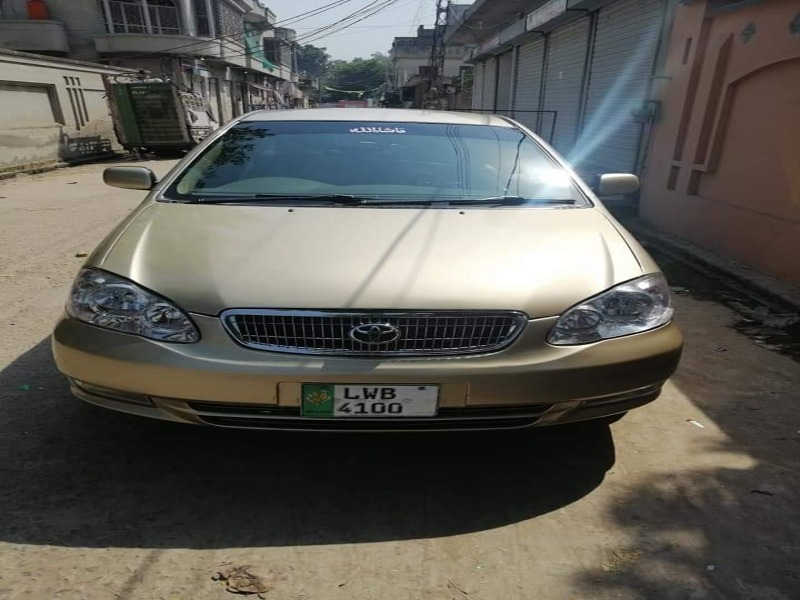License Plate: (296, 378, 443, 423)
